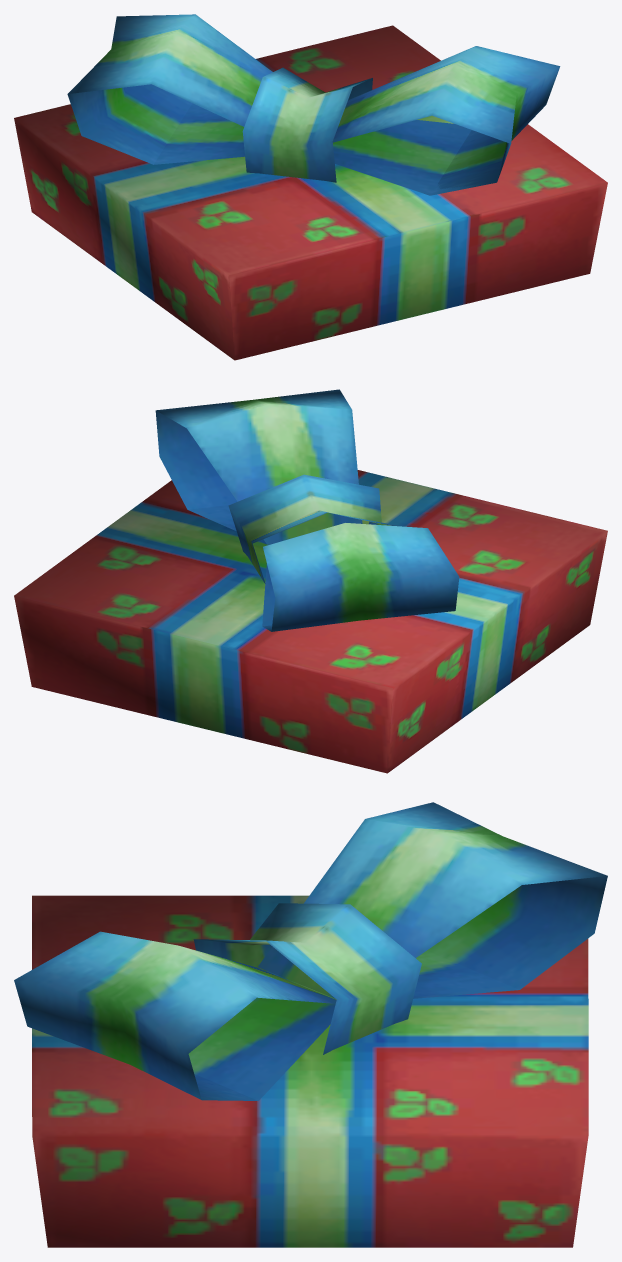
3 renders of one model, top to bottom at view 1: azimuth 30°, elevation 25°; view 2: azimuth 150°, elevation 25°; view 3: azimuth 270°, elevation 25°, orthographic. The views are drawn at different scales.
Parts seen in each view (by area): view 1: element3ds.com-UC13; view 2: element3ds.com-UC13; view 3: element3ds.com-UC13.
Boxes of the visible parts, x1,y1,x2,y2 form: element3ds.com-UC13: [14, 14, 607, 360]; element3ds.com-UC13: [14, 389, 607, 773]; element3ds.com-UC13: [14, 802, 607, 1247].
Size of the model in its own units: 2.99 by 1.38 by 2.99.
Materials: 1 (1 with a texture image).
